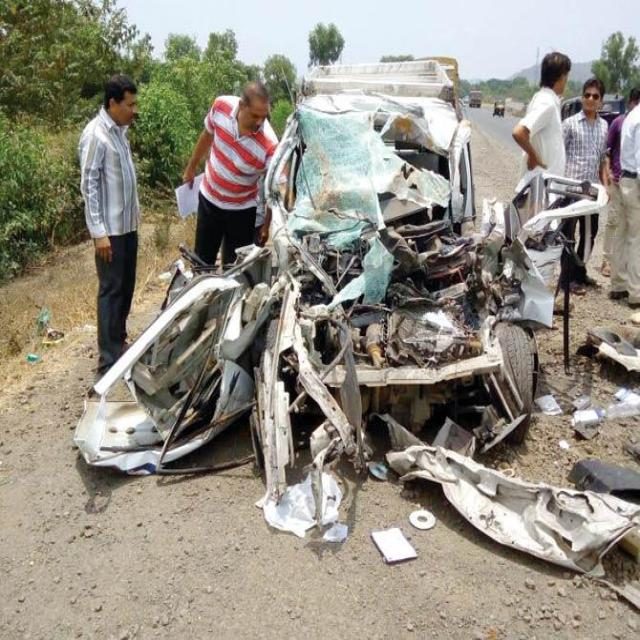accident: (75, 59, 605, 500)
